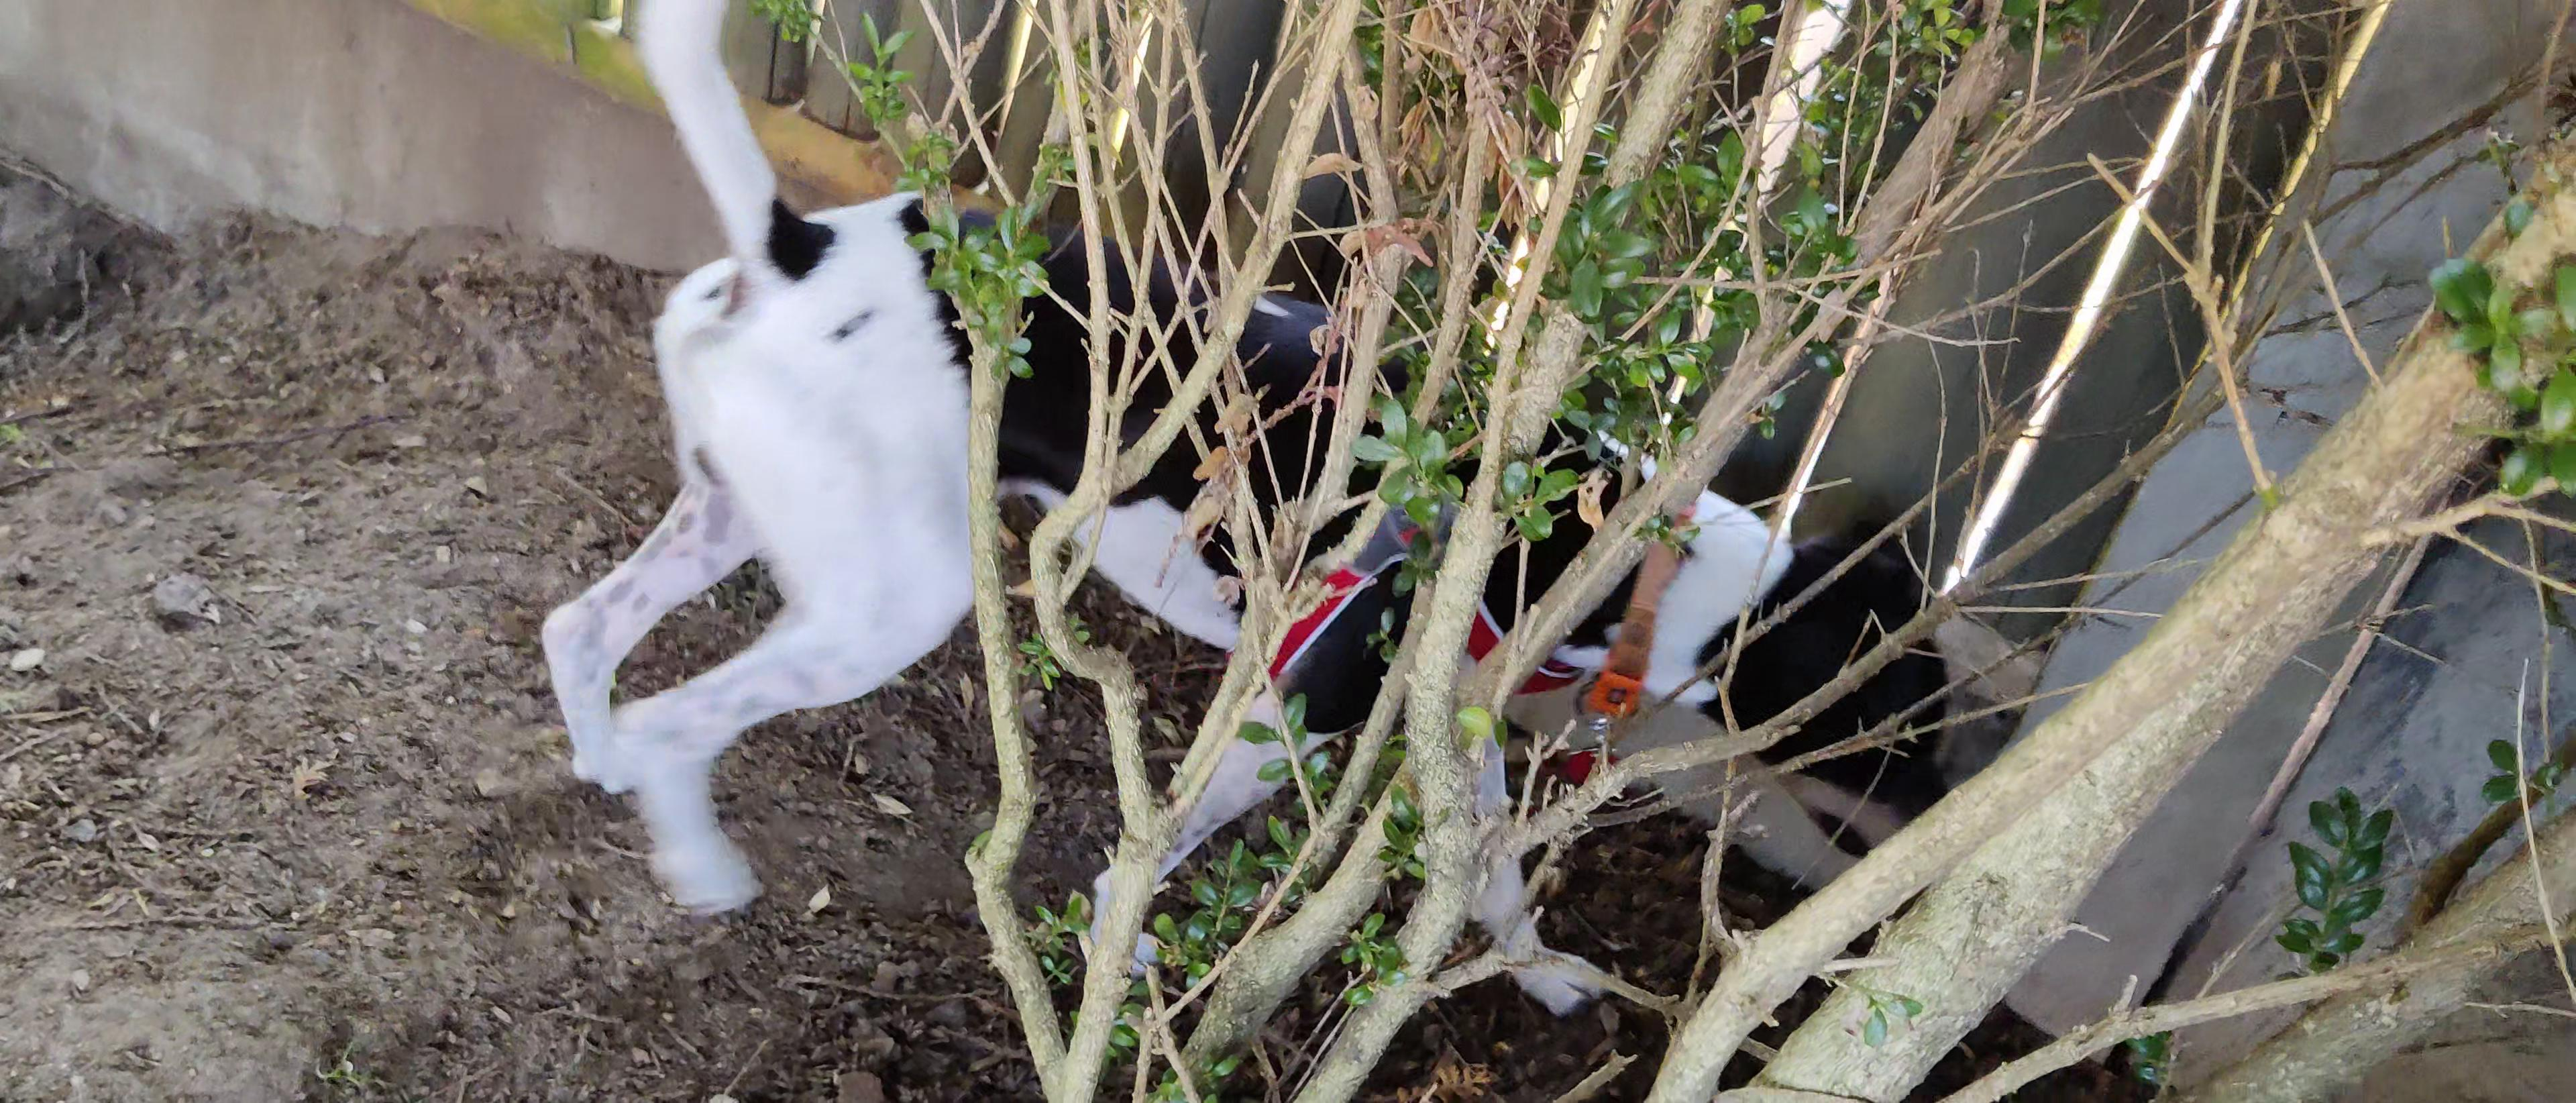Dog: (519, 0, 1981, 1029)
